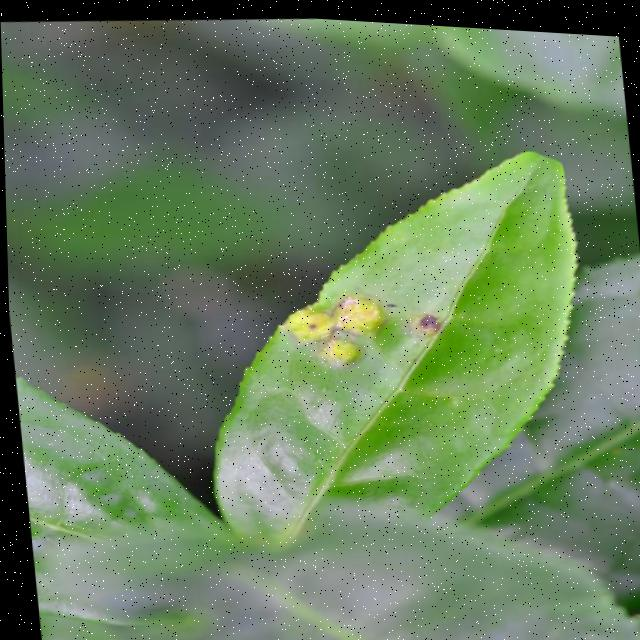Tea cake: (286, 279, 391, 372), (402, 300, 453, 343)
